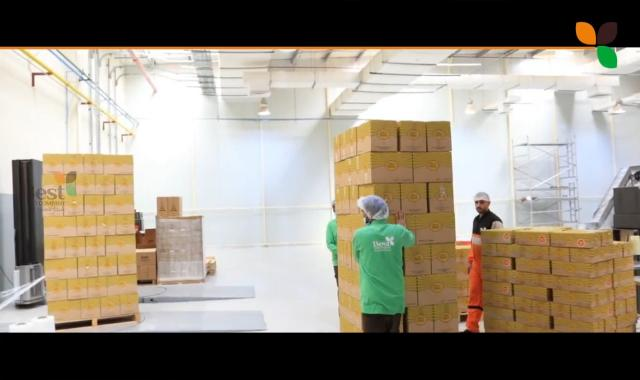hairnet: (357, 194, 392, 220), (472, 190, 491, 207)
